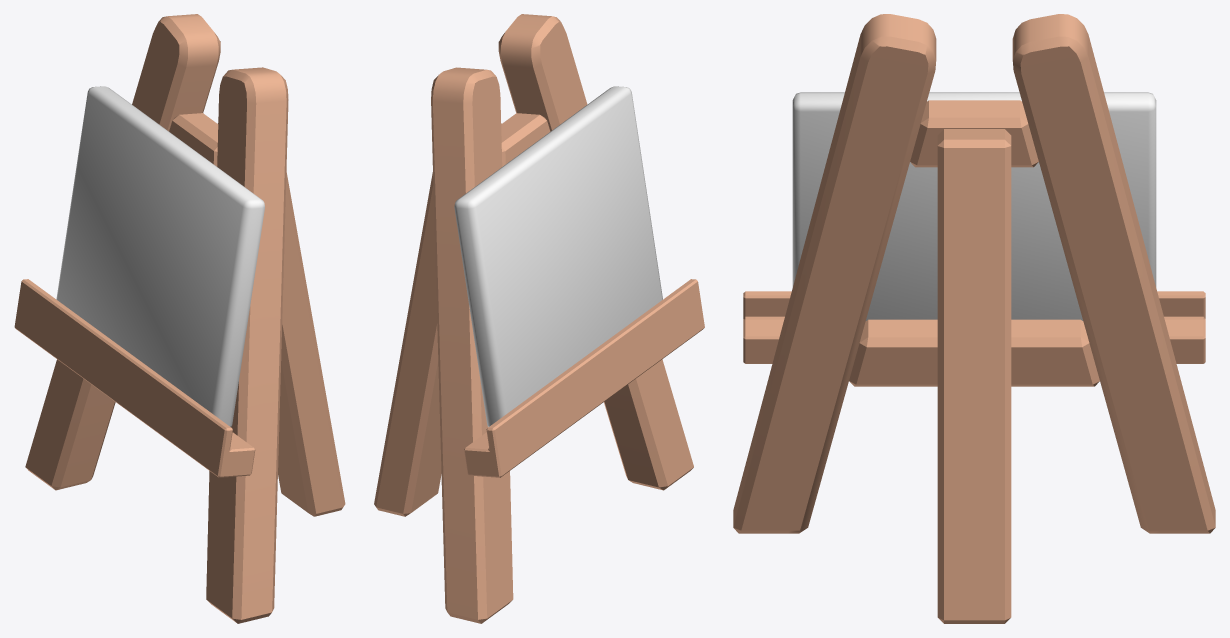
The model's file is easel.glb.
3 renders of one model, left to right at view 1: azimuth 30°, elevation 25°; view 2: azimuth 150°, elevation 25°; view 3: azimuth 270°, elevation 25°, orthographic. The views are drawn at different scales.
Parts seen in each view (by area): view 1: Canvas, Easel_Main, Easel_Support, Easel_Back, Easel_Mid; view 2: Canvas, Easel_Main, Easel_Support, Easel_Back, Easel_Mid; view 3: Easel_Main, Easel_Back, Canvas, Easel_Mid, Easel_Support.
Boxes of the visible parts, x1,y1,x2,y2 form: Canvas: [56, 86, 264, 426]; Easel_Main: [25, 14, 288, 623]; Easel_Support: [14, 279, 255, 477]; Easel_Back: [218, 123, 345, 516]; Easel_Mid: [169, 113, 218, 166]; Canvas: [454, 86, 662, 426]; Easel_Main: [431, 14, 693, 623]; Easel_Support: [464, 279, 704, 477]; Easel_Back: [374, 123, 501, 516]; Easel_Mid: [501, 113, 550, 166]; Easel_Main: [733, 14, 1215, 533]; Easel_Back: [937, 129, 1011, 623]; Canvas: [792, 92, 1156, 320]; Easel_Mid: [849, 100, 1099, 386]; Easel_Support: [743, 291, 1205, 363].
Size of the model in its own units: 3.89 by 8.32 by 6.69.
